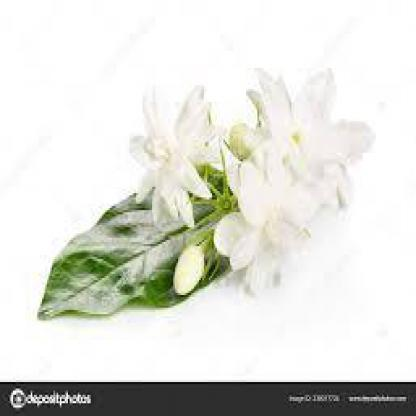Melati: (234, 41, 372, 209), (100, 80, 224, 218), (202, 145, 326, 273)
